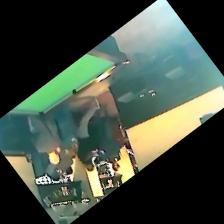person: (27, 113, 58, 163), (98, 106, 119, 171), (52, 101, 76, 157)
